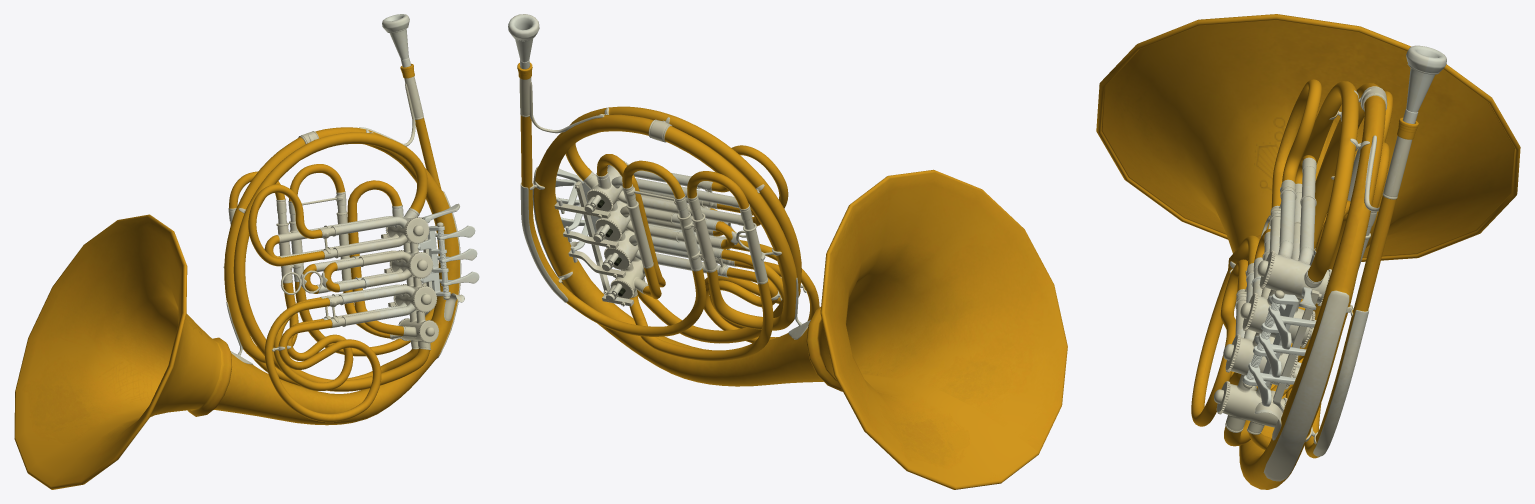
The picture shows the model from 3 angles, left to right: view 1: azimuth 30°, elevation 25°; view 2: azimuth 150°, elevation 25°; view 3: azimuth 270°, elevation 25°; orthographic projection. The views are drawn at different scales.
Visible parts, largest first — view 1: Object_20, Object_19, Object_18, Object_17, Object_21; view 2: Object_20, Object_18, Object_19, Object_17, Object_21, Object_3; view 3: Object_20, Object_18, Object_19, Object_17, Object_21.
Part boxes in pixels (x1,y1,x2,y2): Object_20: [14, 63, 464, 489]; Object_19: [264, 222, 449, 422]; Object_18: [228, 171, 365, 294]; Object_17: [288, 14, 459, 243]; Object_21: [391, 217, 479, 339]; Object_20: [517, 62, 1067, 489]; Object_18: [672, 145, 788, 249]; Object_19: [589, 168, 819, 343]; Object_17: [508, 14, 688, 217]; Object_21: [555, 178, 633, 306]; Object_3: [554, 200, 625, 296]; Object_20: [1096, 14, 1520, 489]; Object_18: [1253, 79, 1392, 278]; Object_19: [1191, 235, 1284, 426]; Object_17: [1260, 45, 1446, 310]; Object_21: [1248, 289, 1321, 412].
Bounding box in the file's own units: 16.55 × 12.37 × 9.56.
1 material, 1 textured.
